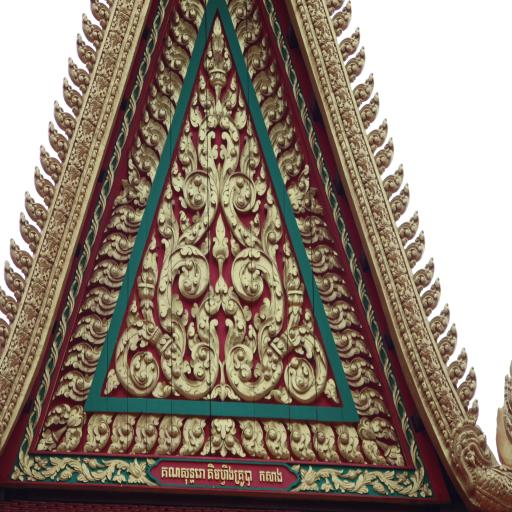la: (221, 294, 333, 402), (120, 290, 220, 399), (142, 170, 220, 291), (218, 171, 292, 294), (178, 95, 262, 169), (360, 416, 403, 469), (206, 16, 232, 98), (37, 403, 72, 455), (0, 454, 54, 484), (294, 459, 342, 492), (83, 406, 115, 454), (108, 409, 140, 456), (207, 417, 243, 458), (98, 457, 147, 486), (383, 469, 431, 498), (119, 164, 150, 207), (131, 412, 160, 457), (133, 133, 159, 183), (140, 107, 167, 155), (171, 7, 197, 55), (92, 255, 126, 291), (342, 464, 382, 494), (310, 421, 338, 463), (56, 456, 98, 484), (57, 370, 89, 406), (109, 204, 145, 236), (287, 417, 313, 461), (180, 416, 207, 458), (158, 412, 183, 457), (148, 85, 174, 128), (83, 286, 116, 319), (62, 404, 84, 453), (158, 55, 180, 104), (240, 416, 266, 457), (264, 82, 292, 120), (291, 169, 317, 209), (270, 114, 298, 150), (265, 417, 289, 459), (251, 64, 282, 96), (297, 211, 328, 243), (326, 299, 358, 330), (99, 231, 132, 261), (68, 340, 100, 370), (76, 316, 108, 346), (344, 361, 382, 386), (351, 391, 394, 413), (165, 36, 189, 75), (335, 331, 368, 359), (335, 422, 358, 462), (278, 144, 305, 177), (238, 12, 264, 46), (248, 39, 274, 73), (307, 250, 342, 272), (177, 0, 204, 25), (320, 276, 348, 298), (362, 175, 384, 203), (378, 225, 400, 252), (441, 392, 460, 423), (372, 202, 392, 229), (89, 72, 108, 100), (19, 301, 35, 334), (419, 346, 440, 371), (332, 86, 352, 112), (430, 368, 450, 394), (386, 247, 406, 273), (46, 211, 65, 238), (98, 48, 114, 80), (231, 0, 253, 23), (354, 157, 376, 180), (54, 186, 72, 214), (341, 110, 360, 136), (411, 320, 430, 346), (40, 232, 57, 261), (69, 140, 87, 167), (10, 331, 28, 358), (312, 19, 332, 43), (110, 10, 129, 35), (328, 62, 346, 88), (36, 256, 51, 287), (84, 95, 100, 124), (404, 297, 422, 321), (64, 166, 79, 194), (349, 136, 368, 158), (396, 275, 414, 298), (77, 118, 93, 143), (29, 280, 43, 308), (323, 42, 340, 65), (106, 30, 121, 56), (0, 354, 17, 376), (310, 0, 325, 22), (117, 0, 133, 13)
lua: (447, 344, 473, 383), (38, 142, 63, 182), (8, 234, 32, 275), (52, 96, 76, 136), (2, 259, 26, 297), (45, 118, 69, 155), (18, 210, 40, 249), (440, 319, 460, 360), (459, 364, 479, 405), (65, 57, 90, 89), (360, 88, 382, 124), (382, 163, 406, 196), (376, 136, 399, 170), (32, 167, 54, 202), (422, 272, 443, 308), (431, 298, 452, 334), (354, 69, 376, 103), (408, 230, 430, 264), (81, 12, 103, 46), (23, 191, 46, 223), (62, 76, 83, 111), (368, 115, 389, 149), (415, 254, 436, 288), (340, 26, 362, 58), (345, 45, 367, 77), (392, 182, 412, 216), (75, 32, 95, 66), (334, 0, 353, 34), (400, 211, 420, 240), (0, 283, 15, 320), (89, 0, 110, 25)
